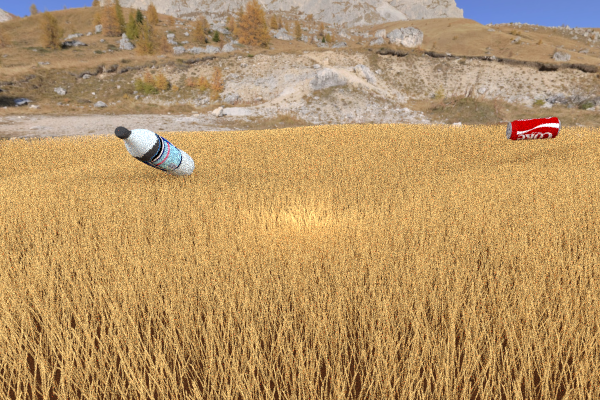Plastic Bottle: (114, 126, 194, 177), (506, 116, 560, 140), (270, 119, 311, 150)
